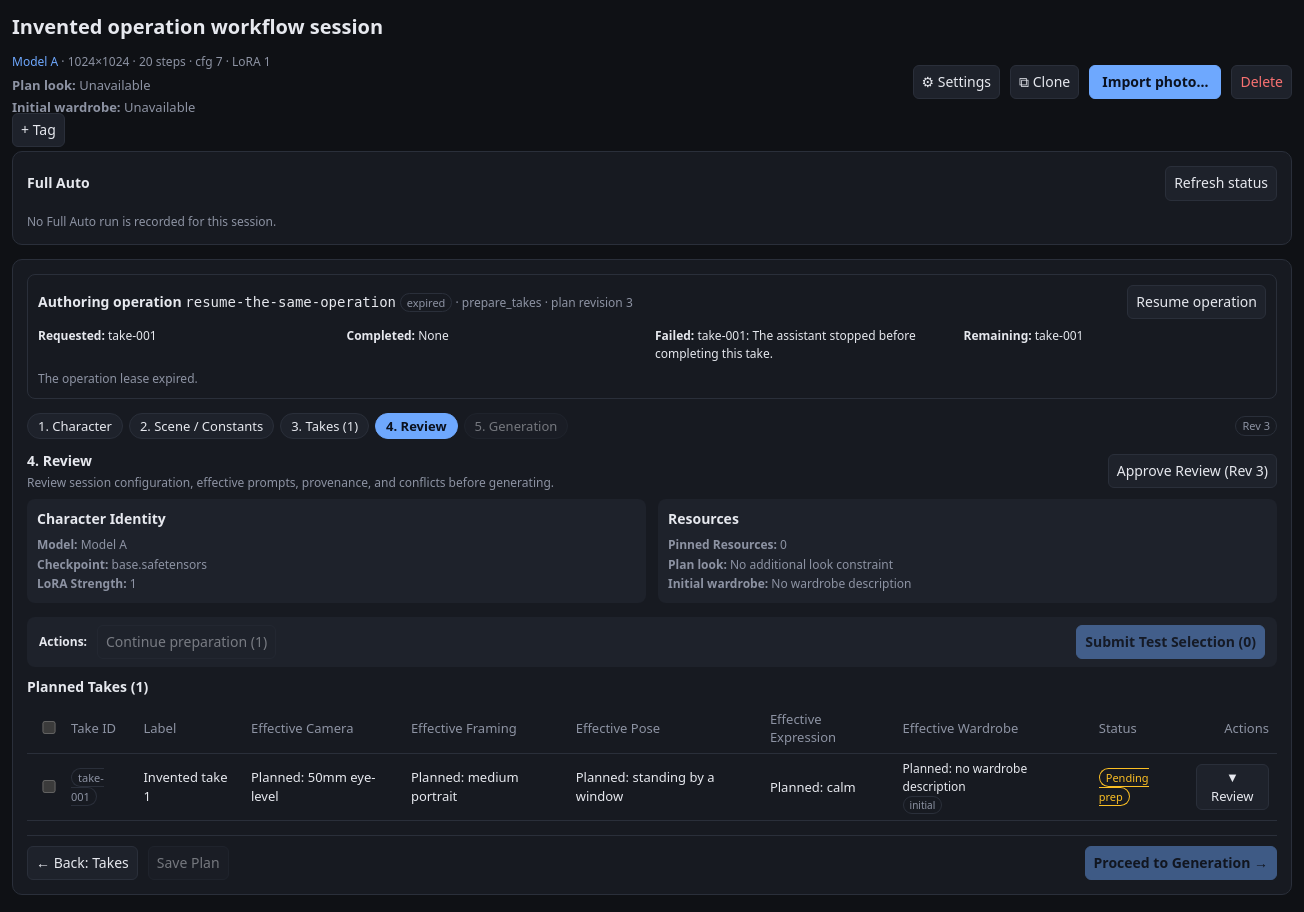
Test: Task 8.4 authoring operation UI › restores status through GET and refreshes preparation again after resuming the same operation ID
The image size is (1304, 912).
Check: the element named "Authoring operation" shows "expired", box [407,295,445,310]
Click the button "Resume operation".
click(1197, 302)  # box [1127,285,1266,319]
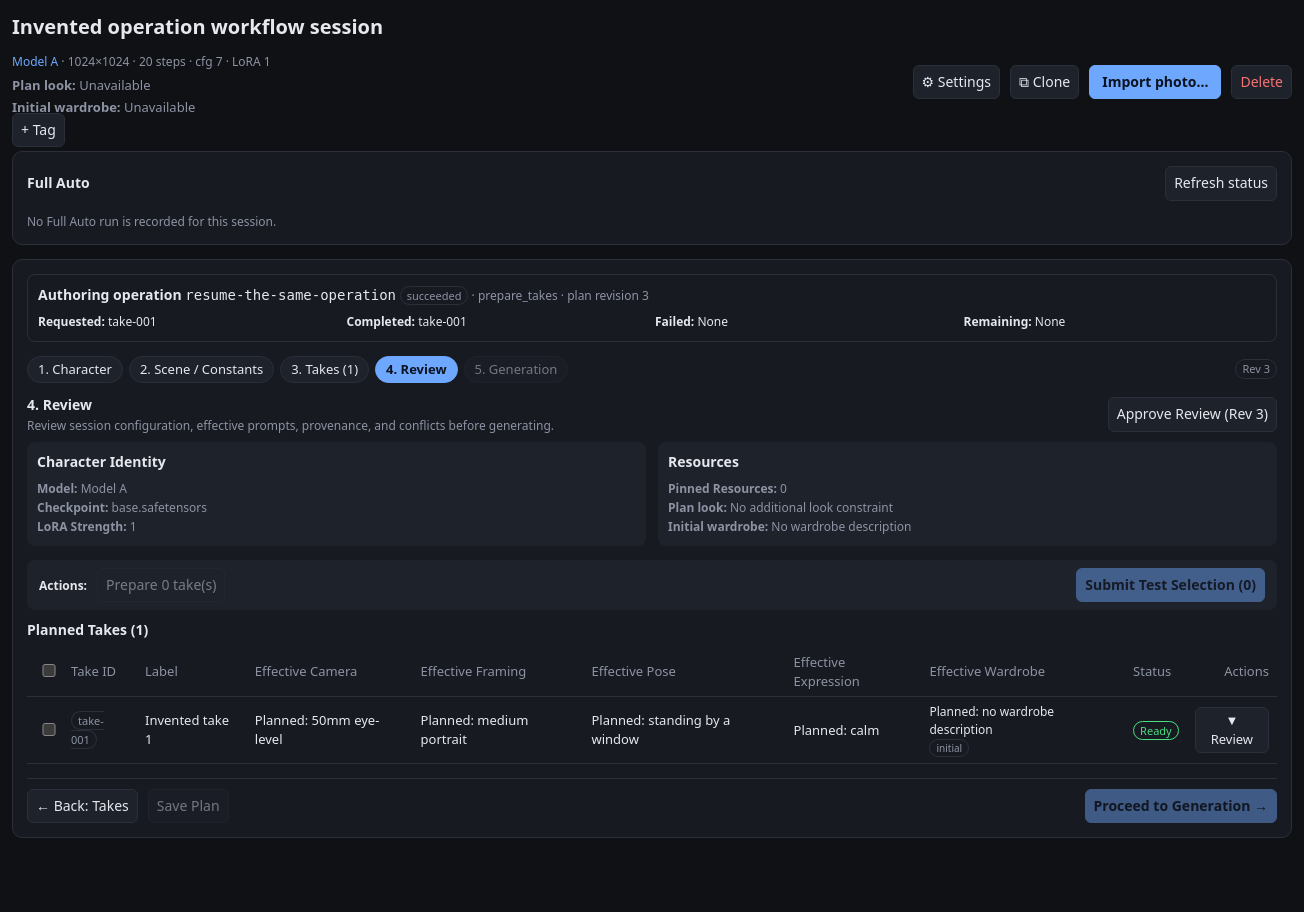
Check: the element named "Authoring operation" shows "succeeded", box [407,288,462,303]
